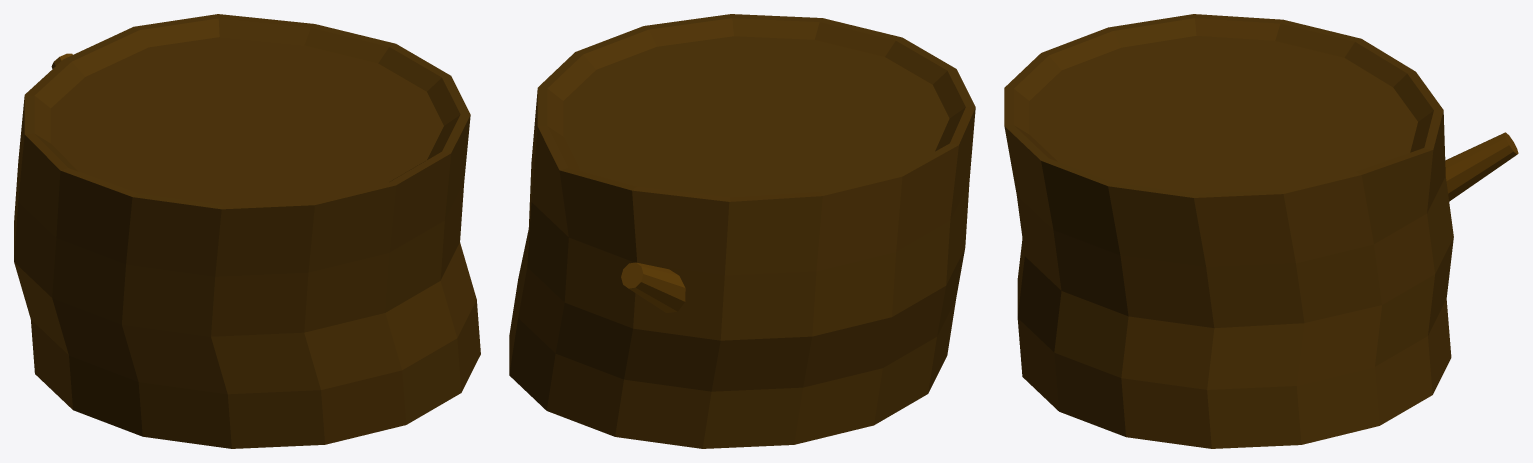
The model's file is cut-down-tree.glb.
3 renders of one model, left to right at view 1: azimuth 30°, elevation 25°; view 2: azimuth 150°, elevation 25°; view 3: azimuth 270°, elevation 25°, orthographic. The views are drawn at different scales.
Parts seen in each view (by area): view 1: Cylinder; view 2: Cylinder, Cylinder.001; view 3: Cylinder, Cylinder.001.
Boxes of the visible parts, left/top/right/bottom form: Cylinder: left=14, top=14, right=480, bottom=448; Cylinder: left=509, top=14, right=975, bottom=448; Cylinder.001: left=621, top=262, right=685, bottom=312; Cylinder: left=1004, top=14, right=1453, bottom=448; Cylinder.001: left=1445, top=132, right=1518, bottom=201.
Size of the model in its own units: 0.9515 by 0.558 by 1.07.
